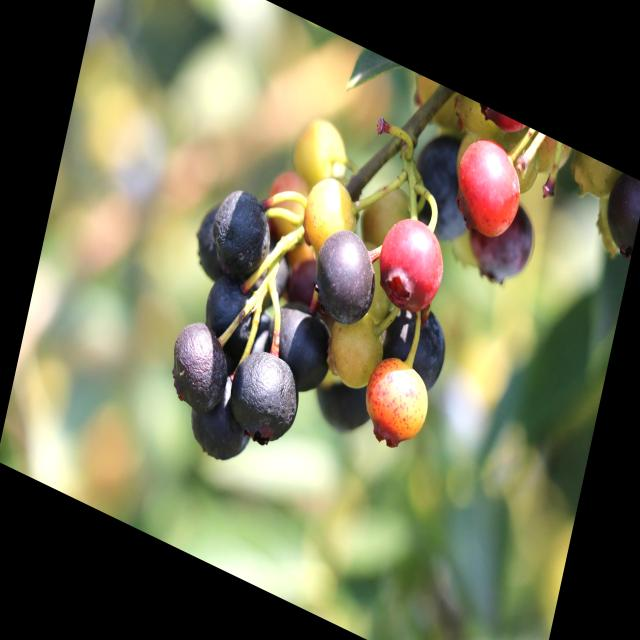blueberry: (395, 116, 487, 262), (220, 328, 312, 465), (300, 213, 389, 346), (369, 280, 458, 406), (254, 288, 342, 414), (198, 172, 283, 298), (180, 358, 264, 479), (160, 308, 238, 432), (191, 258, 262, 374), (305, 352, 383, 453), (184, 190, 241, 290), (246, 231, 300, 320), (592, 166, 640, 263)
blueberry-halfripe: (443, 126, 529, 254), (371, 205, 452, 322), (356, 344, 434, 459)
blueberry-unripe: (324, 301, 388, 397), (298, 168, 362, 257), (292, 112, 354, 197)
